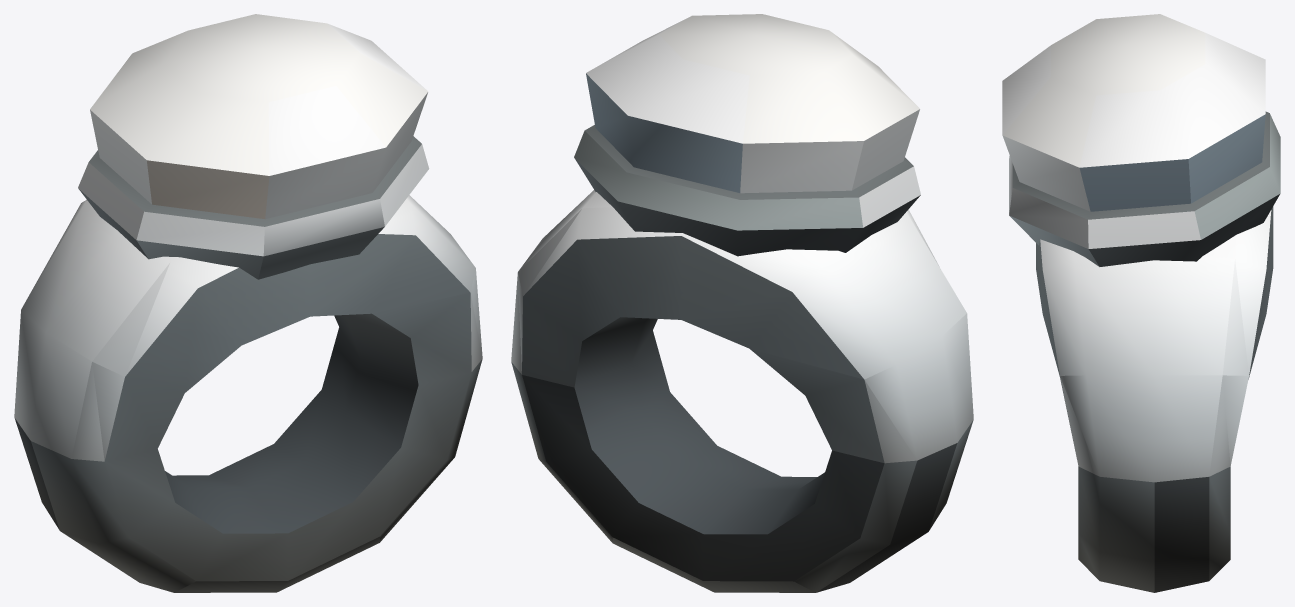
The model's file is ring_silver_diamond.glb.
3 renders of one model, left to right at view 1: azimuth 30°, elevation 25°; view 2: azimuth 150°, elevation 25°; view 3: azimuth 270°, elevation 25°, orthographic. The views are drawn at different scales.
Visible parts, largest first — view 1: Item; view 2: Item; view 3: Item.
Part boxes in pixels (<box>): Item: <box>14,14,482,592</box>; Item: <box>511,14,973,592</box>; Item: <box>1002,14,1280,592</box>.
Bounding box in the file's own units: 0.52 × 0.62 × 0.3.
Materials: 3 (3 with a texture image).
